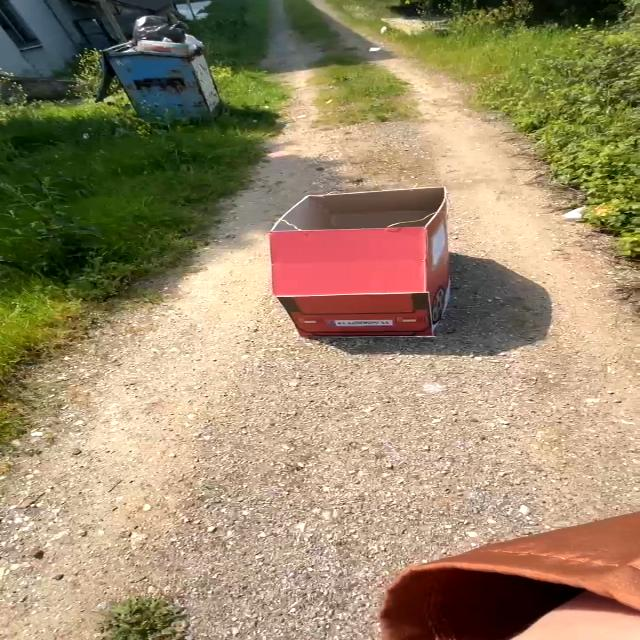red_car: (242, 180, 503, 356)
